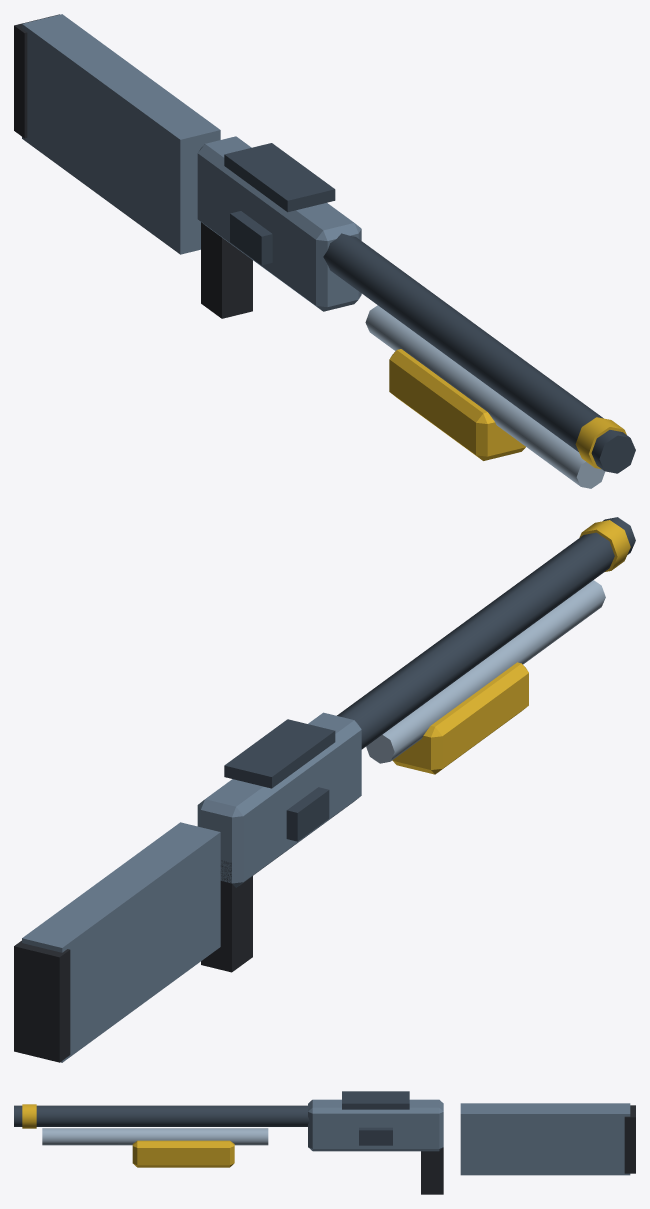
3 views of the same model, one above another, from view 1: azimuth 30°, elevation 25°; view 2: azimuth 150°, elevation 25°; view 3: azimuth 270°, elevation 25° (orthographic). The views are drawn at different scales.
Parts seen in each view (by area): view 1: dweller_weapon_shotgun; view 2: dweller_weapon_shotgun; view 3: dweller_weapon_shotgun.
Boxes of the visible parts, x1,y1,x2,y2 form: dweller_weapon_shotgun: (14, 14, 635, 488); dweller_weapon_shotgun: (14, 517, 635, 1062); dweller_weapon_shotgun: (14, 1091, 635, 1194).
Size of the model in its own units: 0.074 by 0.182 by 1.1.
